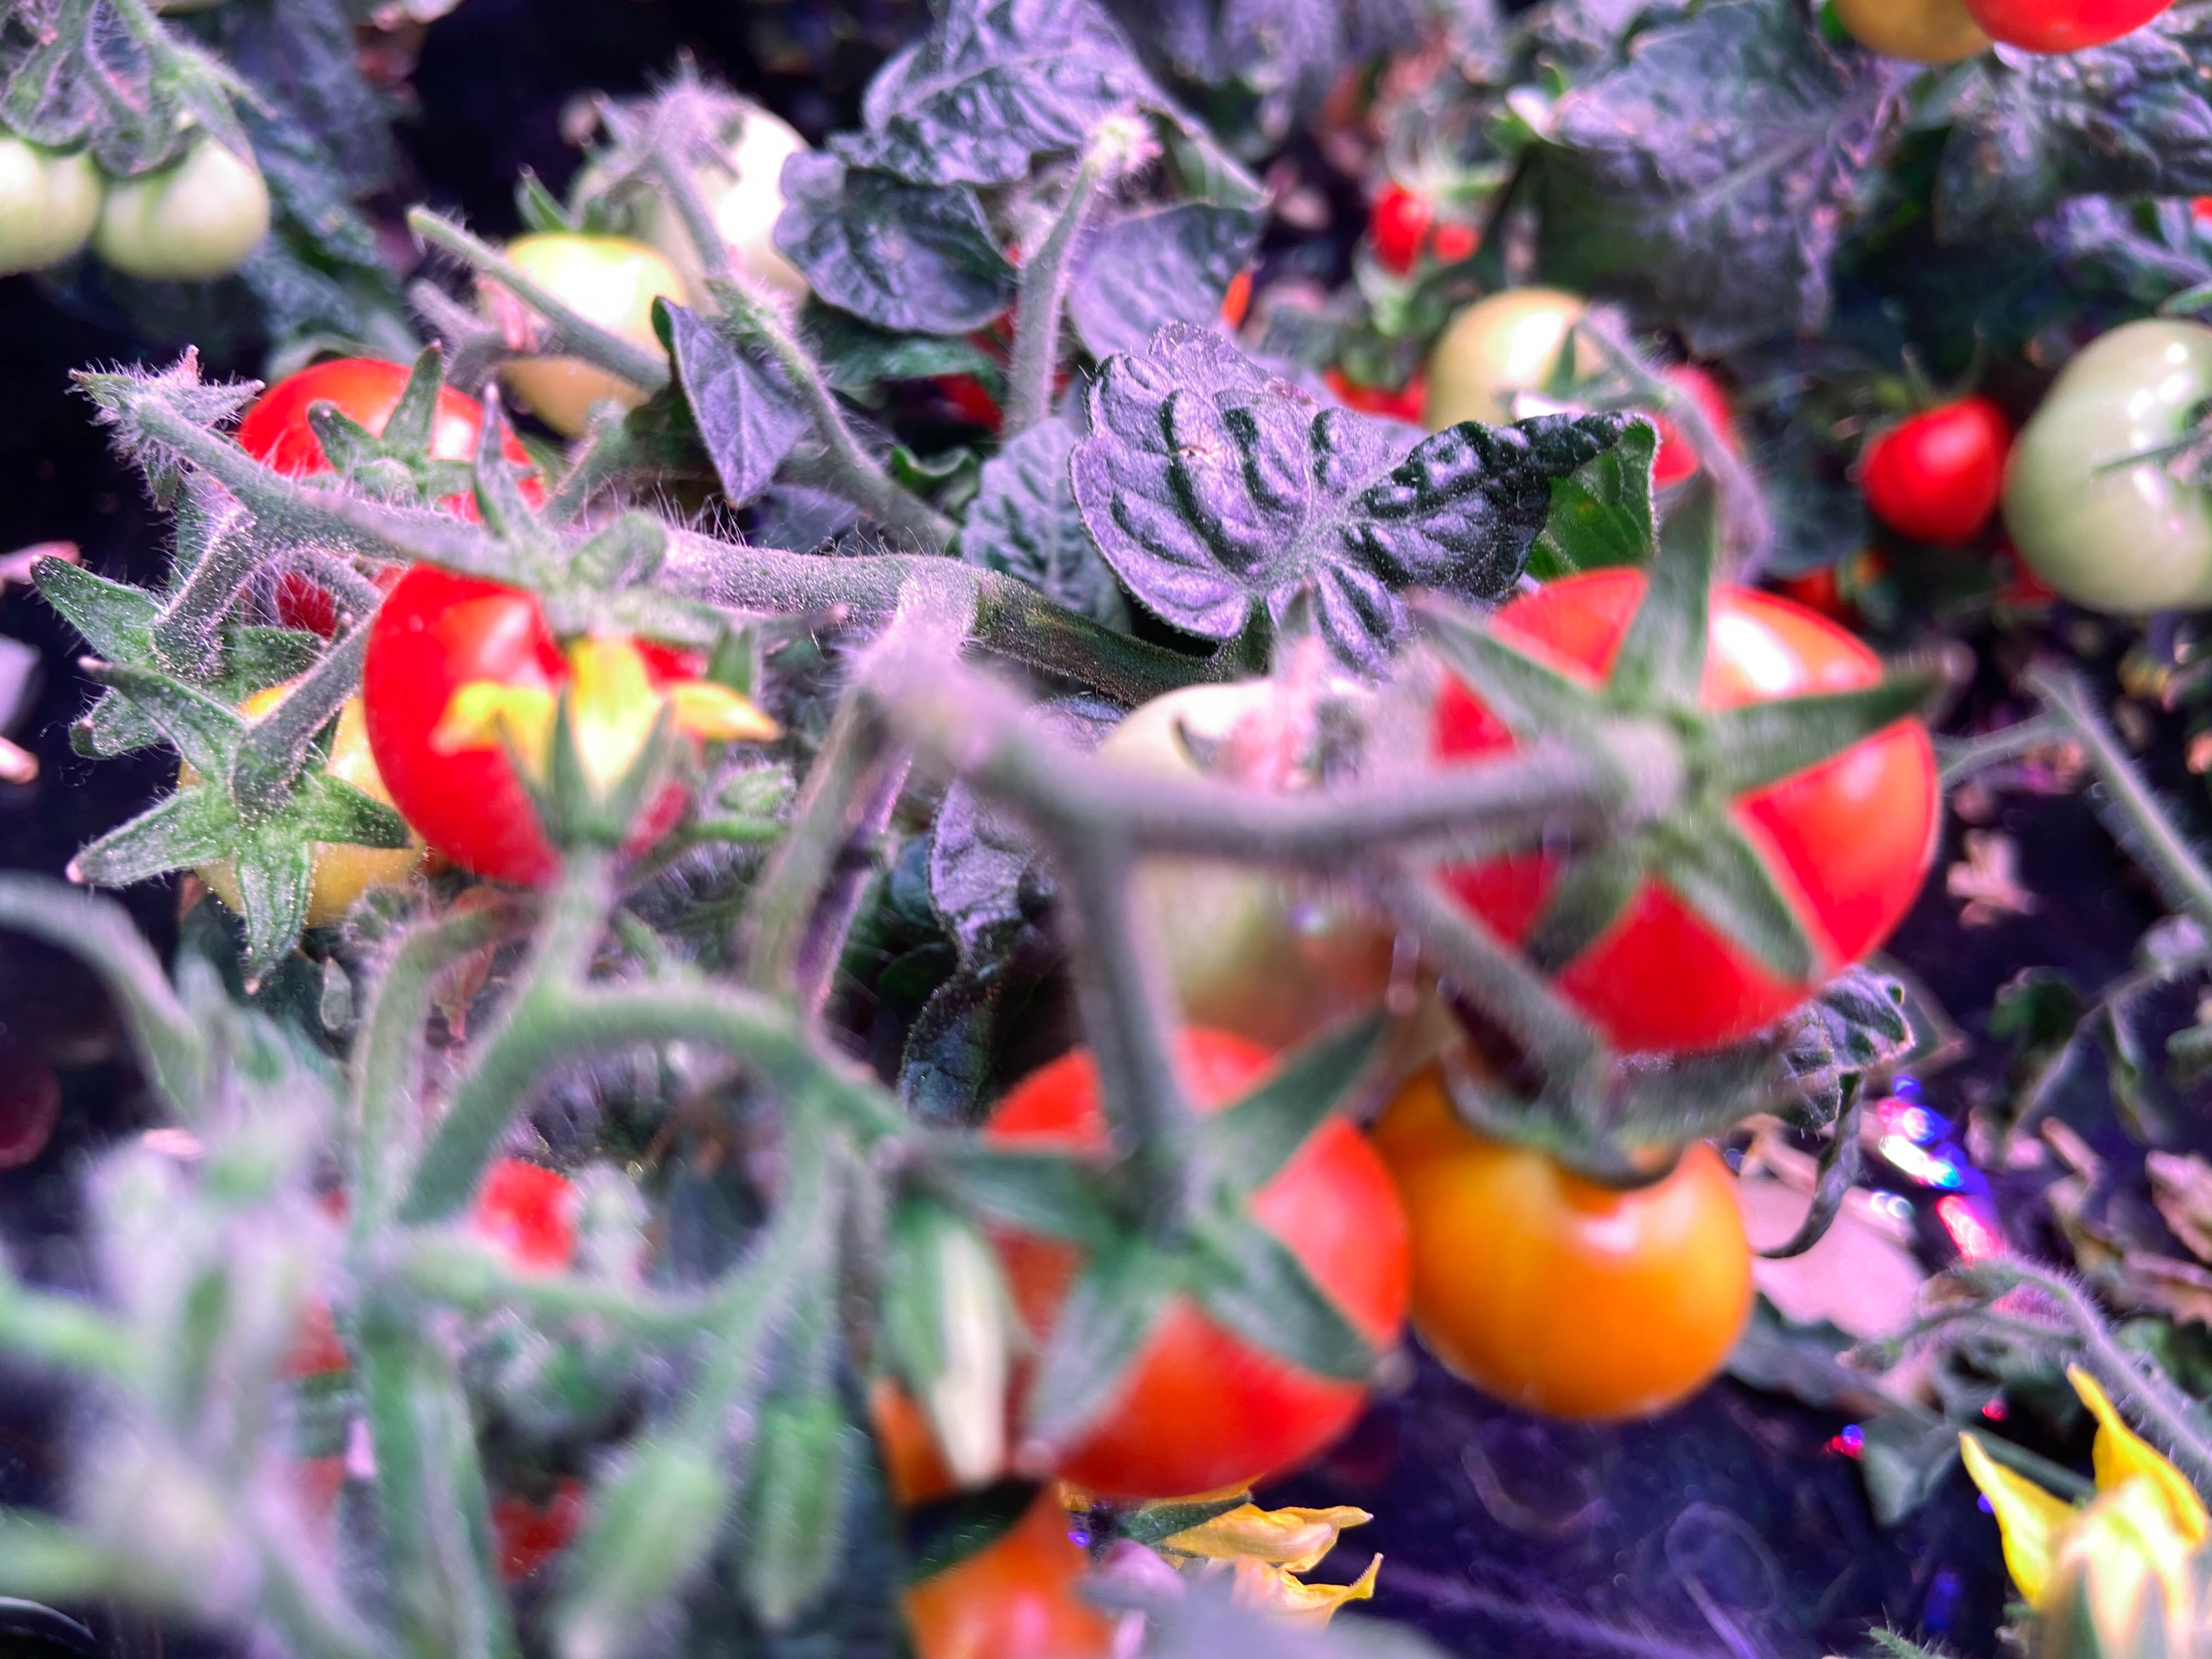green: (1106, 673, 1505, 1061), (2003, 317, 2212, 613), (174, 676, 418, 924), (603, 106, 819, 321), (89, 112, 275, 284), (1425, 284, 1613, 443), (0, 103, 103, 277)
red: (1421, 551, 1942, 1061), (954, 1023, 1414, 1504), (181, 1230, 691, 1601), (1395, 1098, 1756, 1420), (354, 549, 681, 885), (230, 354, 509, 622), (482, 220, 702, 436), (1585, 345, 1768, 535), (894, 1509, 1122, 1657), (1857, 389, 2012, 542), (935, 274, 1069, 429), (1359, 159, 1486, 275), (474, 1157, 580, 1272), (1825, 0, 2006, 64), (1958, 0, 2188, 51)
